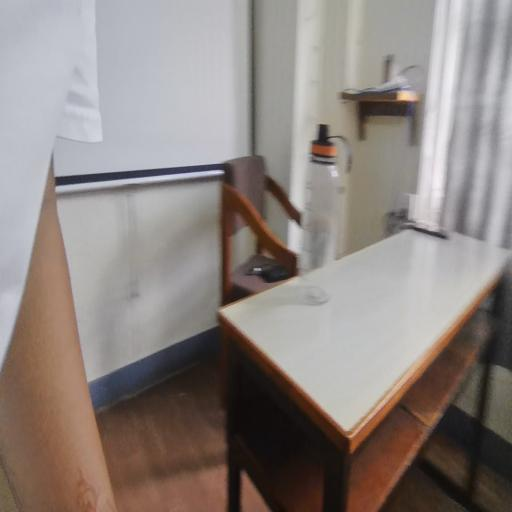Bottle: (297, 109, 346, 321)
